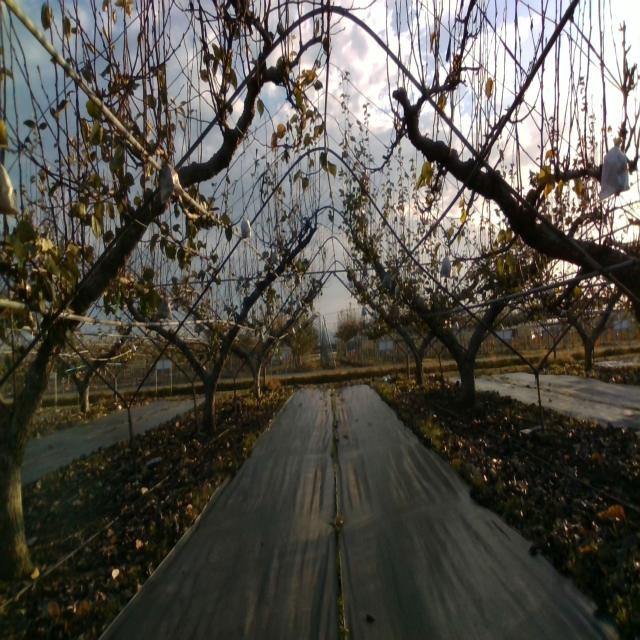pearbags: (599, 141, 630, 202), (160, 163, 183, 204), (439, 251, 452, 278), (240, 215, 252, 240)
